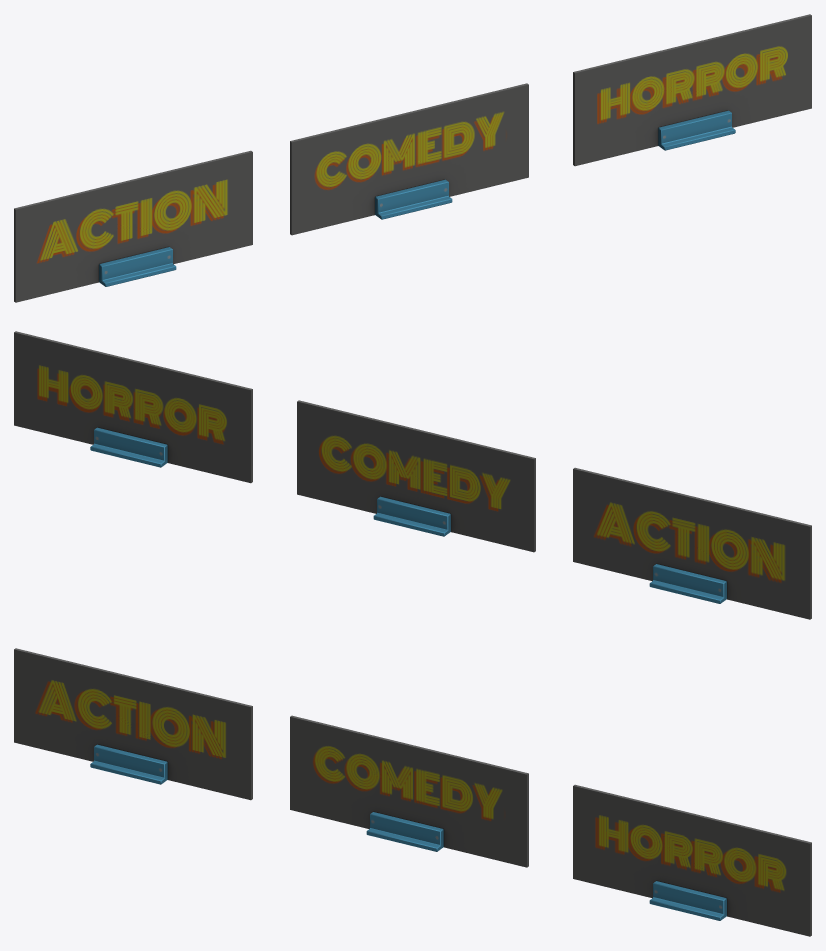
The model's file is video_store_labels_comedy.obj.
3 renders of one model, top to bottom at view 1: azimuth 30°, elevation 25°; view 2: azimuth 150°, elevation 25°; view 3: azimuth 330°, elevation 25°, orthographic.
Parts seen in each view (by area): view 1: Mesh7_Group11_Group10_Group1_Model, Mesh1_Group3_Group2_Group1_Model, Mesh6_Group9_Group6_Group1_Model; view 2: Mesh7_Group11_Group10_Group1_Model, Mesh1_Group3_Group2_Group1_Model, Mesh6_Group9_Group6_Group1_Model; view 3: Mesh7_Group11_Group10_Group1_Model, Mesh6_Group9_Group6_Group1_Model, Mesh1_Group3_Group2_Group1_Model.
Part boxes in pixels (<box>): Mesh7_Group11_Group10_Group1_Model: <box>290,83,528,235</box>; Mesh1_Group3_Group2_Group1_Model: <box>573,14,811,166</box>; Mesh6_Group9_Group6_Group1_Model: <box>14,150,252,302</box>; Mesh7_Group11_Group10_Group1_Model: <box>297,400,535,552</box>; Mesh1_Group3_Group2_Group1_Model: <box>14,331,252,483</box>; Mesh6_Group9_Group6_Group1_Model: <box>573,467,811,619</box>; Mesh7_Group11_Group10_Group1_Model: <box>290,715,528,867</box>; Mesh6_Group9_Group6_Group1_Model: <box>14,648,252,800</box>; Mesh1_Group3_Group2_Group1_Model: <box>573,784,811,936</box>.
Size of the model in its own units: 1.34 by 0.15 by 0.045.
1 material, 1 textured.
